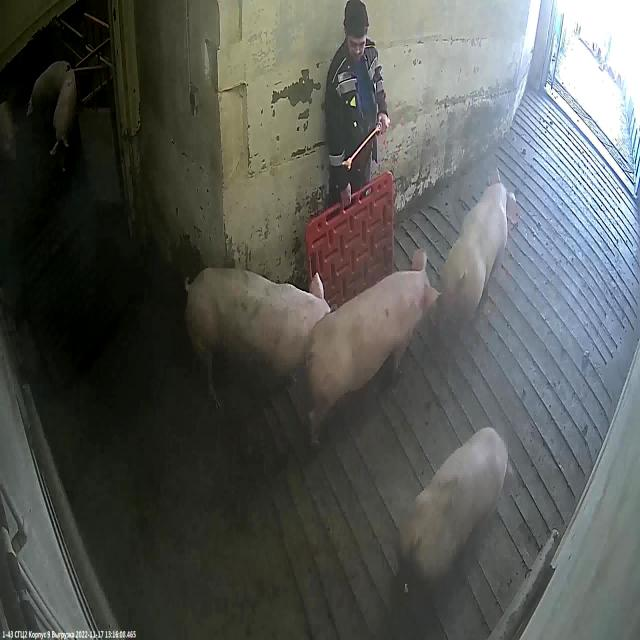pig: (308, 250, 441, 439), (185, 268, 331, 409), (400, 427, 510, 598), (437, 166, 518, 346), (50, 70, 76, 173), (28, 61, 70, 115), (1, 101, 18, 163)
